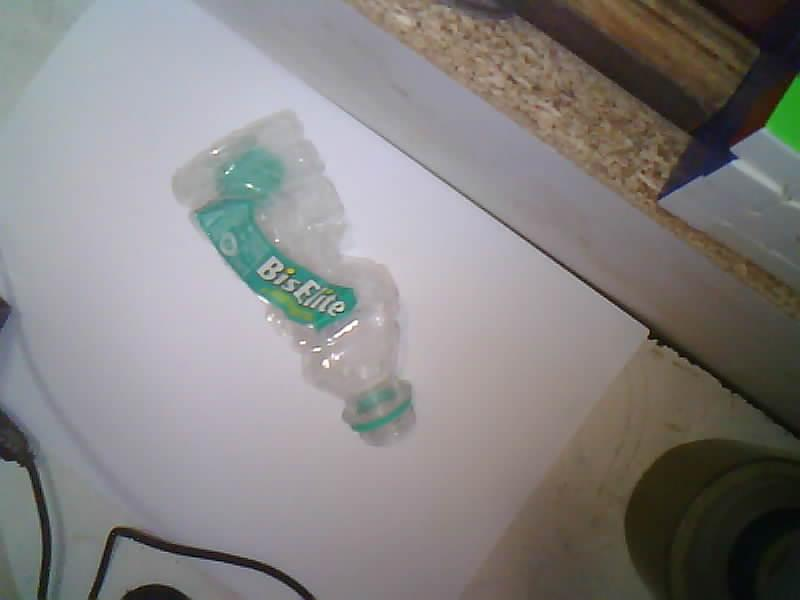non-biodegradable: (173, 111, 414, 445)
